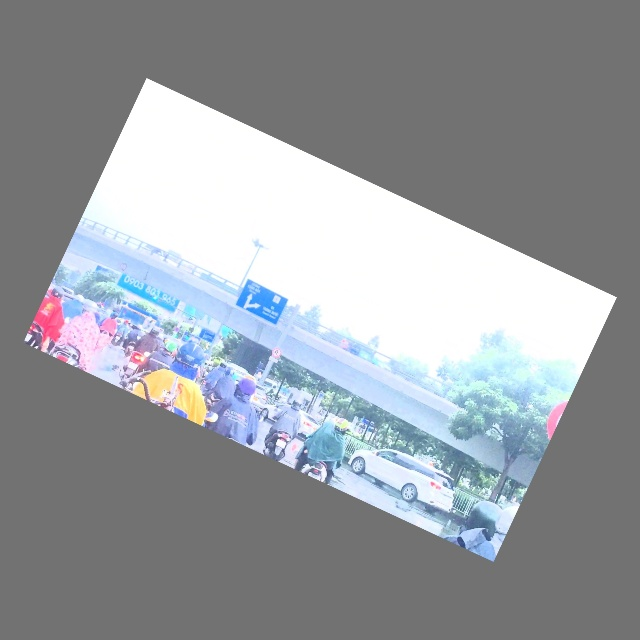P.124b1: (270, 346, 284, 360)
